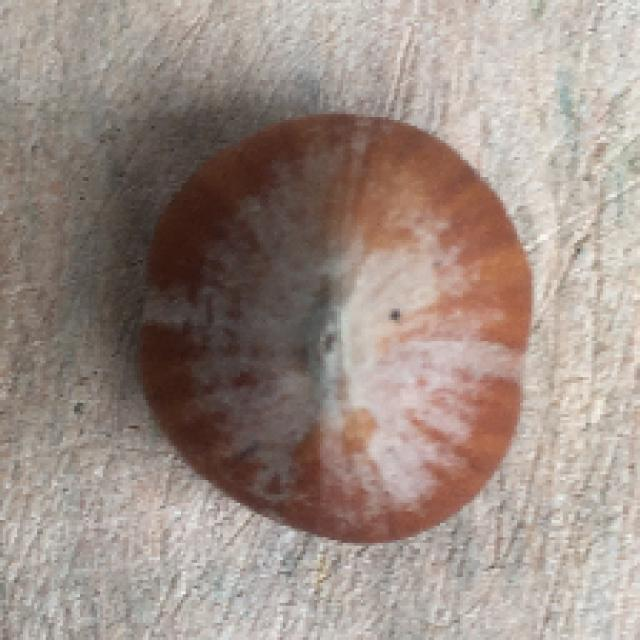QualityHazelnut: (138, 110, 536, 550)
